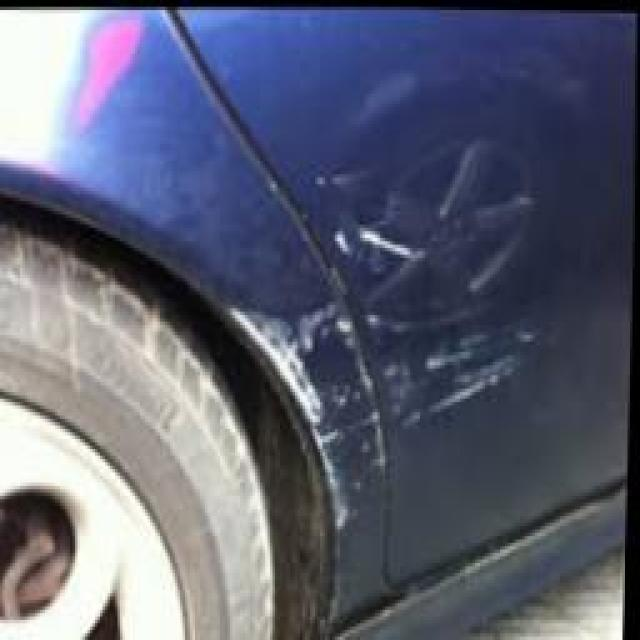Door: (274, 108, 550, 481)
Fender: (216, 237, 395, 542)
